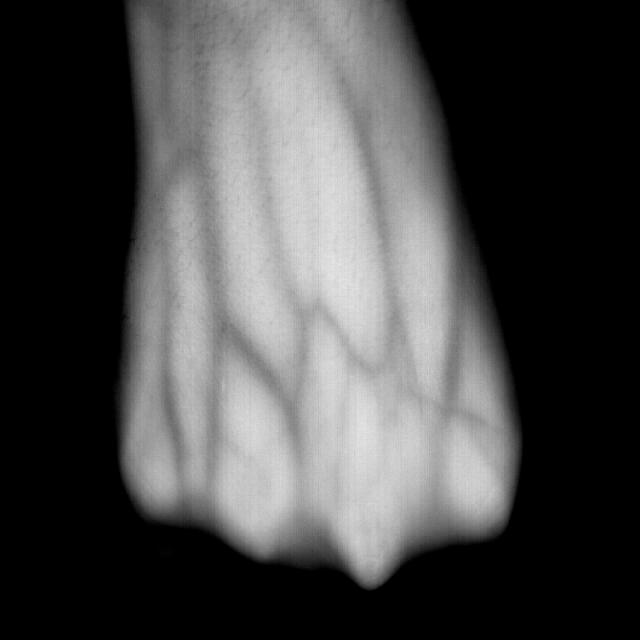Vein: (158, 60, 309, 446), (331, 73, 467, 417)
